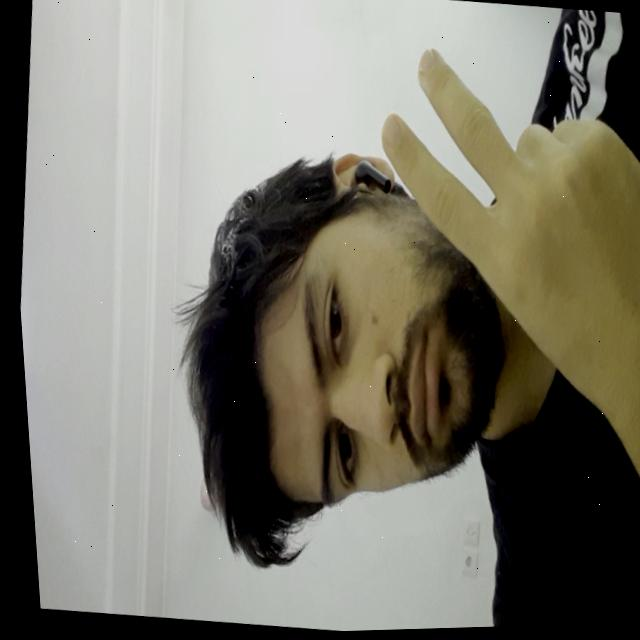Head: (137, 127, 542, 595)
Two: (341, 35, 640, 426)
